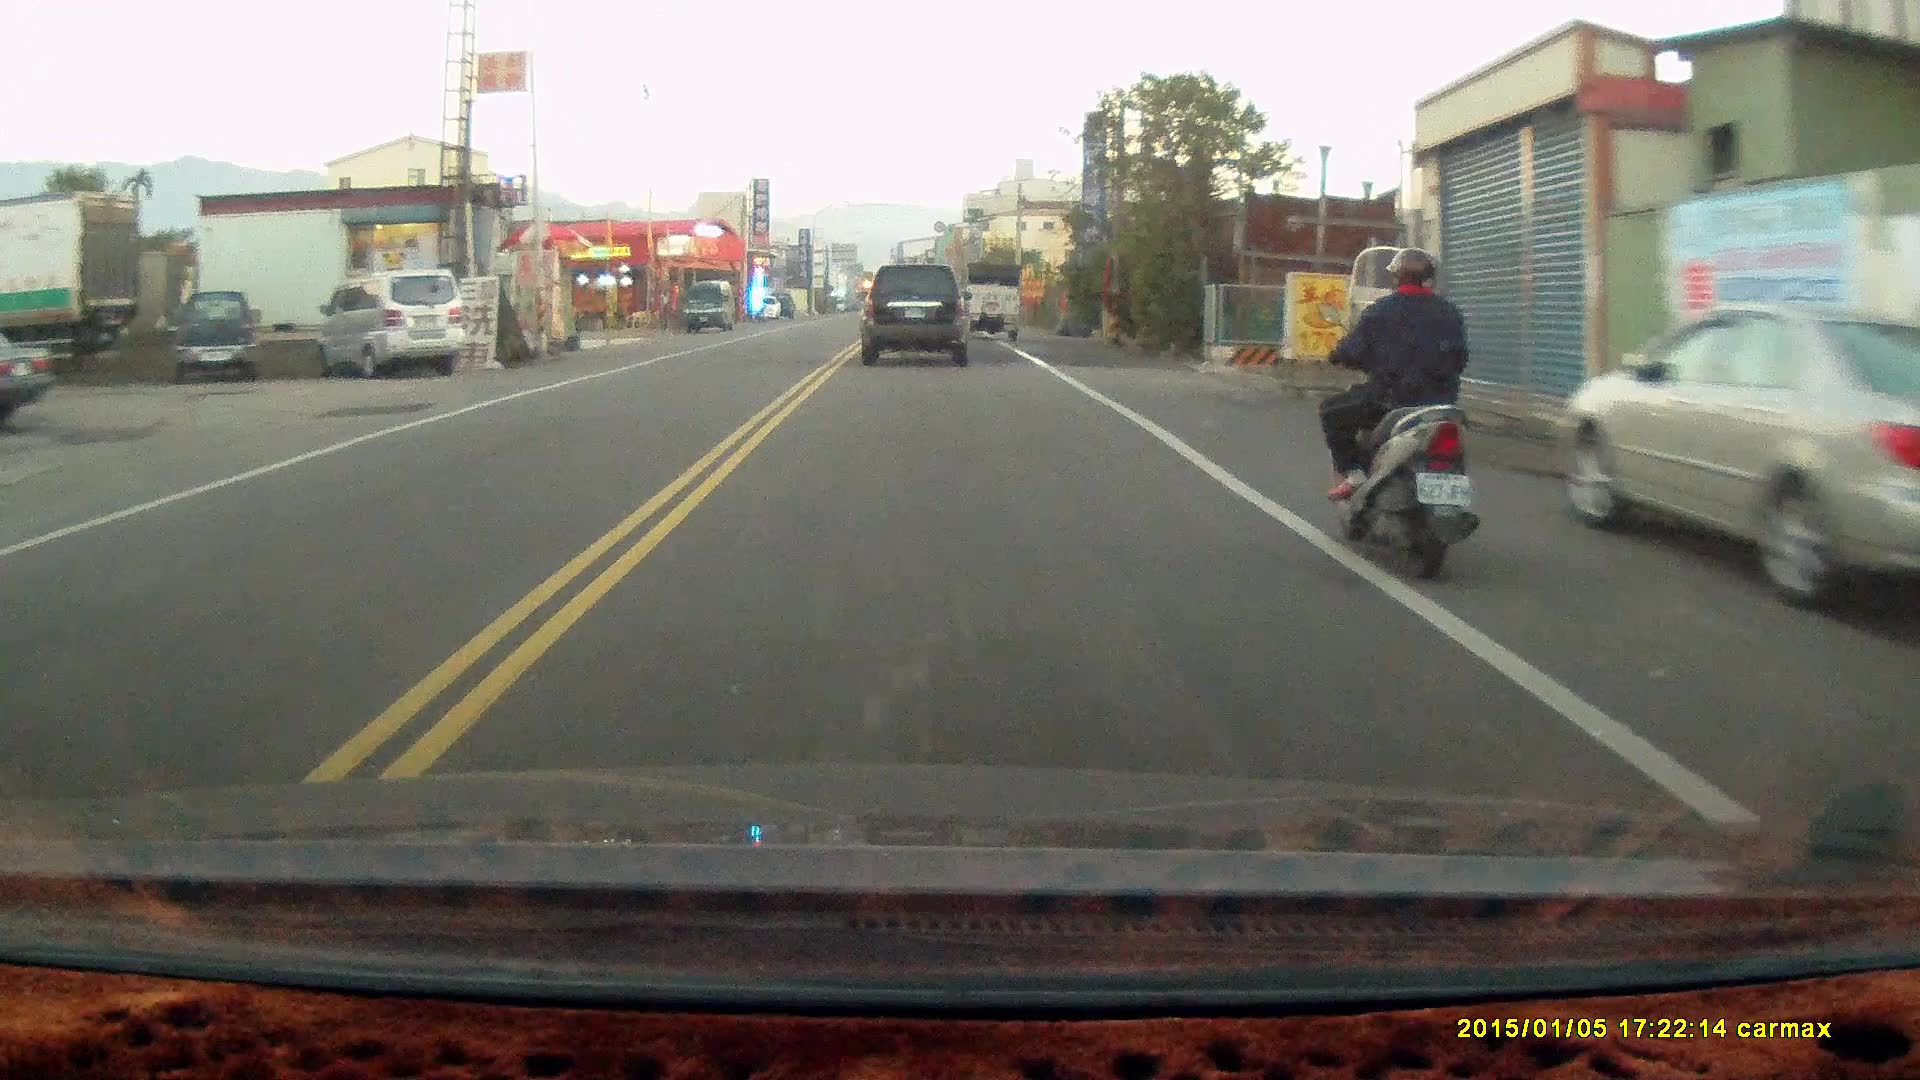rider: (1318, 243, 1481, 583)
vehicle: (1554, 299, 1920, 611), (318, 267, 467, 381), (859, 264, 976, 371), (173, 291, 260, 387), (1, 314, 56, 430), (963, 263, 1024, 340), (683, 283, 737, 337)
